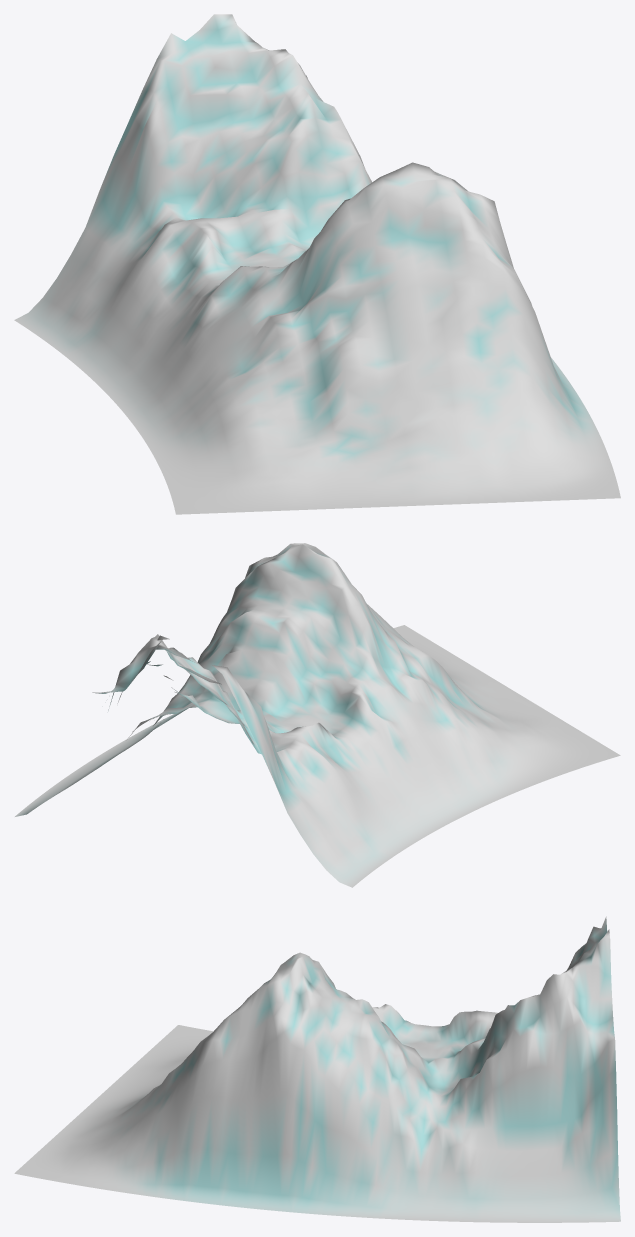
Rendered from far_7.glb.
The picture shows the model from 3 angles, top to bottom: view 1: azimuth 30°, elevation 25°; view 2: azimuth 150°, elevation 25°; view 3: azimuth 270°, elevation 25°; orthographic projection. The views are drawn at different scales.
Parts seen in each view (by area): view 1: Mountain; view 2: Mountain; view 3: Mountain.
Part boxes in pixels (box(x1,y1,x2,y2)): Mountain: box(14, 14, 620, 514); Mountain: box(15, 543, 620, 887); Mountain: box(14, 916, 620, 1222).
Size of the model in its own units: 1206 by 616 by 1562.
